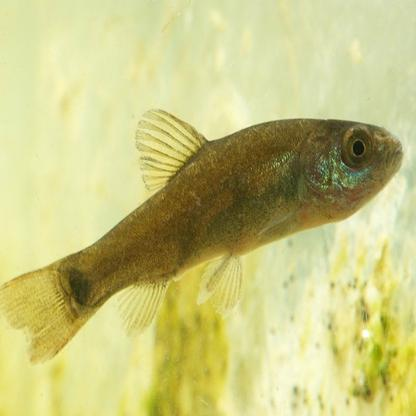fish: (0, 107, 405, 365)
